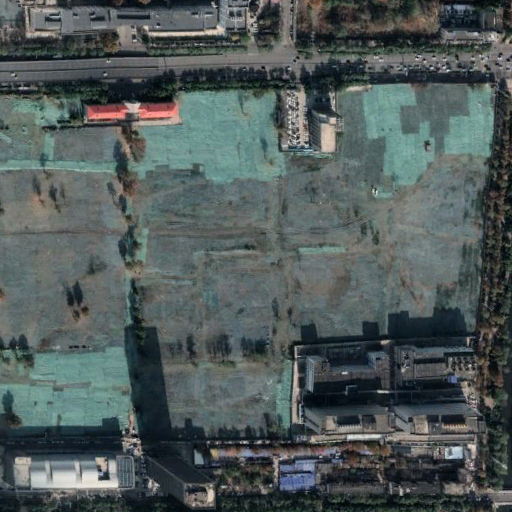cw: (3, 85, 494, 444)
